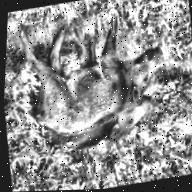boar: (23, 0, 188, 167), (58, 87, 164, 164)
